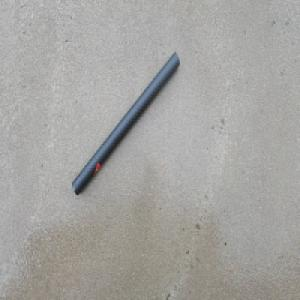LuggagePart: (71, 50, 180, 196)
